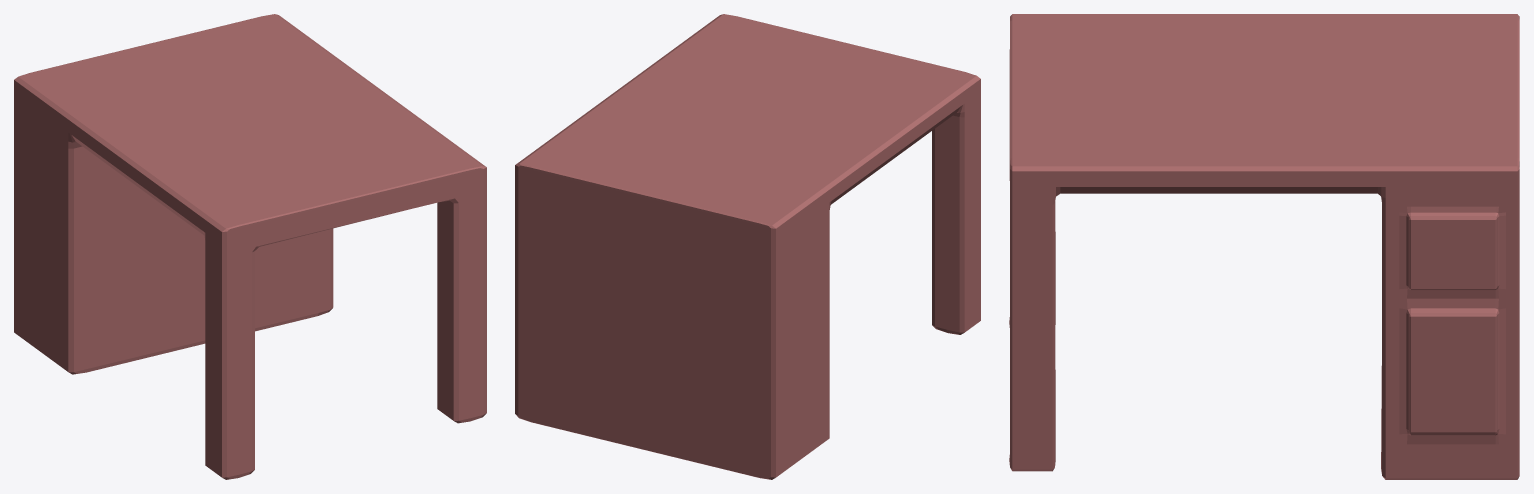
The model's file is desk.glb.
The picture shows the model from 3 angles, left to right: view 1: azimuth 30°, elevation 25°; view 2: azimuth 150°, elevation 25°; view 3: azimuth 270°, elevation 25°; orthographic projection. The views are drawn at different scales.
Parts seen in each view (by area): view 1: Cube; view 2: Cube; view 3: Cube.
Boxes of the visible parts, left/top/right/bottom form: Cube: left=14, top=14, right=486, bottom=479; Cube: left=515, top=14, right=980, bottom=479; Cube: left=1009, top=14, right=1519, bottom=479.
Bounding box in the file's own units: 1.49 × 1.36 × 2.
